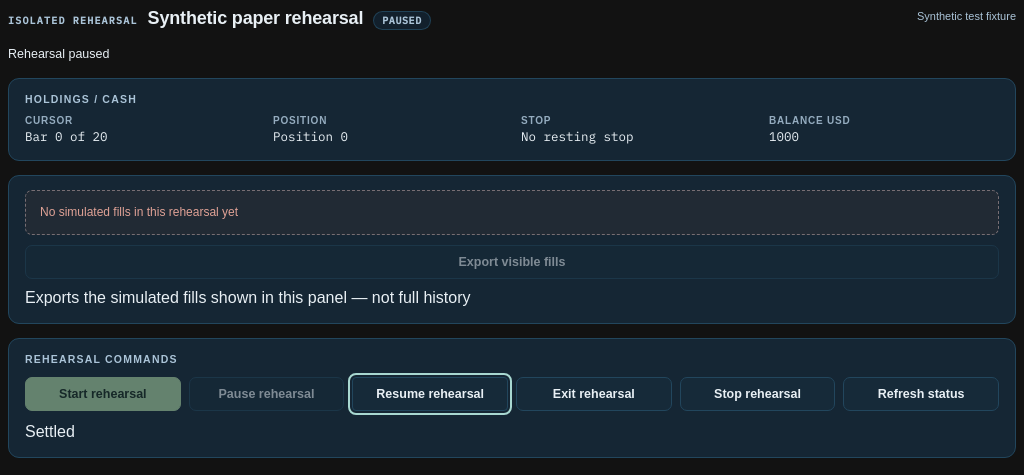
it: rehearsal-commands-busy › signals resume through settlement and permits later activation
Expected: the element with test id "rehearsal-holdings-panel" is shown, [8,78,1016,161]
Click the button with test id "rehearsal-command-resume".
click(430, 394)  # box [352,377,508,411]
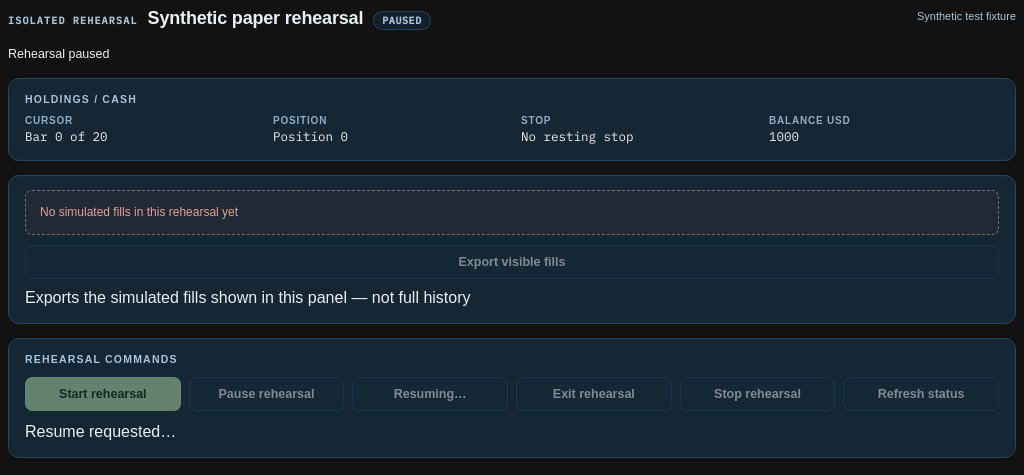
Expected: the button with test id "rehearsal-command-resume" is disabled
Expected: the button with test id "rehearsal-command-resume" reads "Resuming…"
Expected: the text with test id "rehearsal-commands-busy-status" reads "Resume requested…", [25,423,176,440]
Press the mouse on the button with test id "rehearsal-command-resume" at (430, 394), box [352,377,508,411]
Press Enter in the button with test id "rehearsal-command-resume", box [352,377,508,411]
Click the button with test id "rehearsal-command-resume".
click(430, 394)  # box [352,377,508,411]
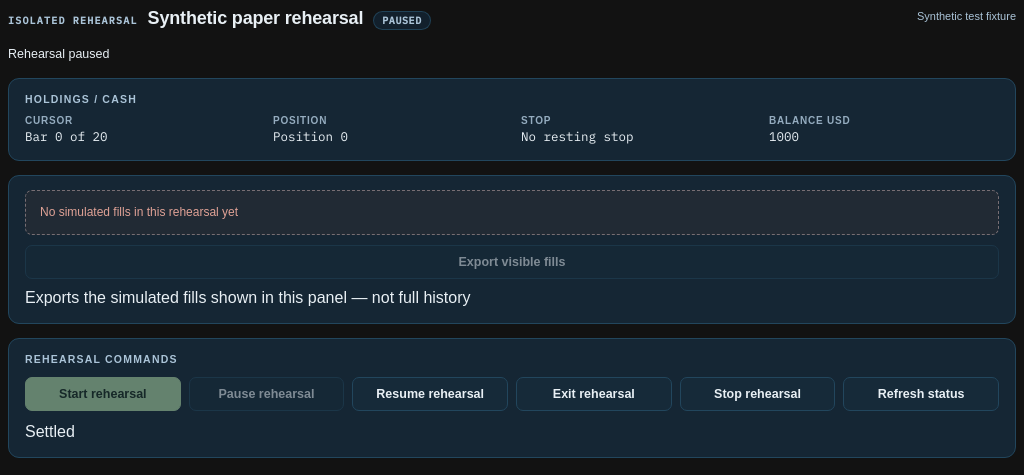
Expected: the button with test id "rehearsal-command-resume" reads "Resume rehearsal"
Expected: the text with test id "rehearsal-commands-busy-status" reads "Settled", [25,423,75,440]
Expected: the button with test id "rehearsal-command-resume" is enabled
Click the button with test id "rehearsal-command-resume".
click(430, 394)  # box [352,377,508,411]
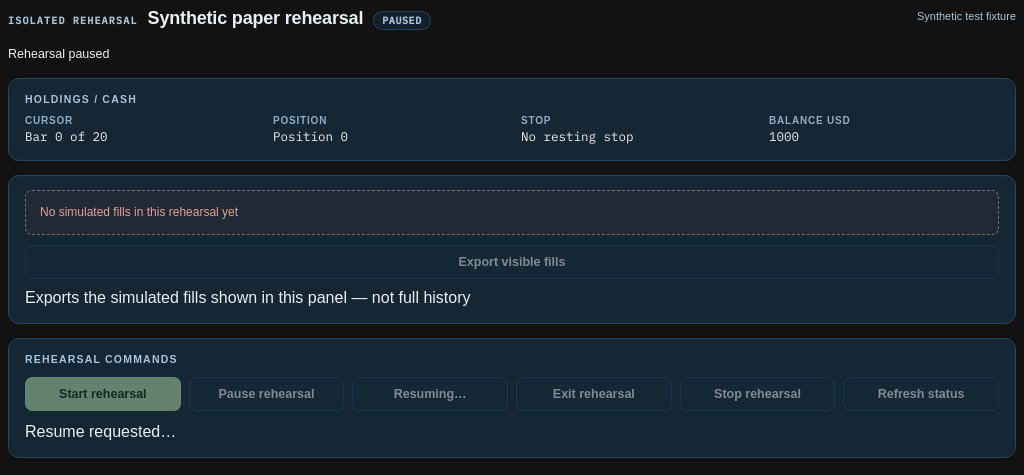
Expected: the button with test id "rehearsal-command-resume" is disabled
Expected: the button with test id "rehearsal-command-resume" reads "Resuming…"
Expected: the text with test id "rehearsal-commands-busy-status" reads "Resume requested…", [25,423,176,440]
Press the mouse on the button with test id "rehearsal-command-resume" at (430, 394), box [352,377,508,411]
Press Enter in the button with test id "rehearsal-command-resume", box [352,377,508,411]
Click the button with test id "rehearsal-command-resume".
click(430, 394)  # box [352,377,508,411]
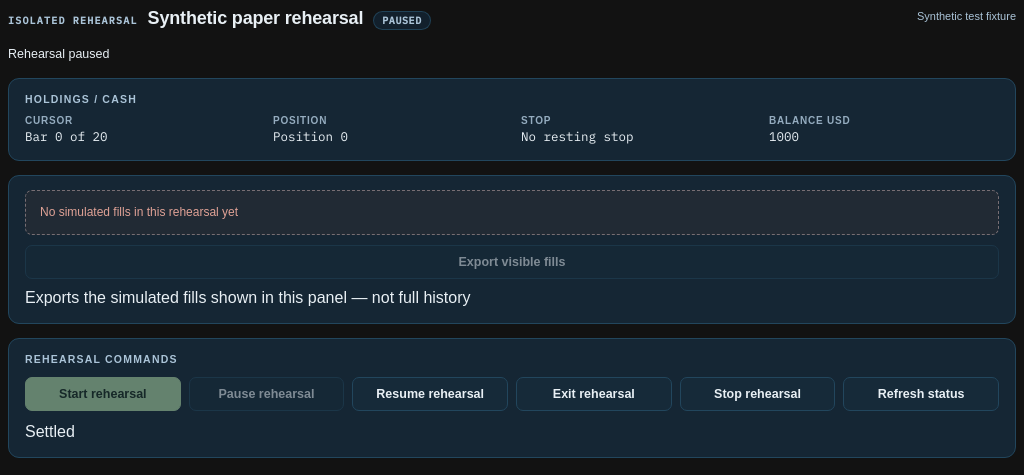
Expected: the button with test id "rehearsal-command-resume" reads "Resume rehearsal", [352,377,508,411]
Expected: the text with test id "rehearsal-commands-busy-status" reads "Settled", [25,423,75,440]
